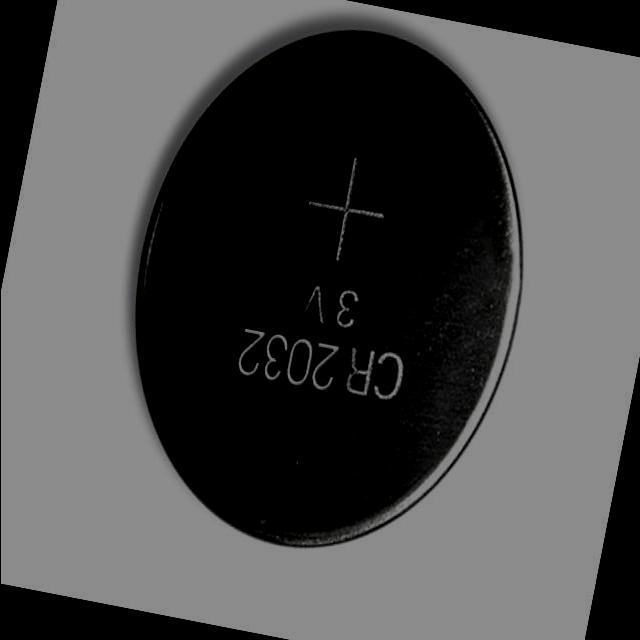COIN: (91, 0, 568, 584)
